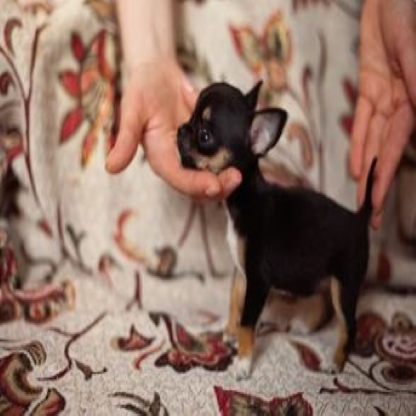chihuahua: (177, 77, 380, 372)
